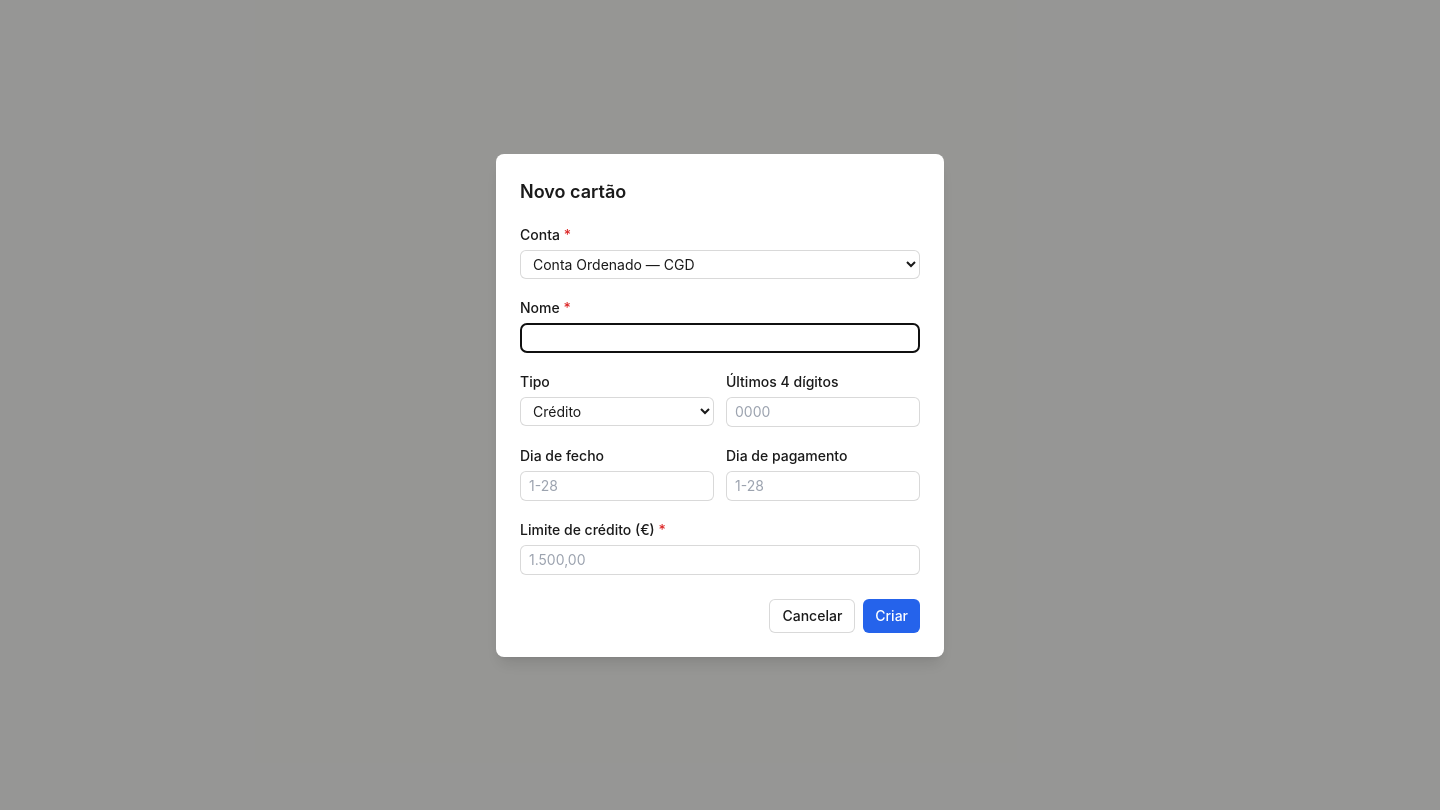
Test: <NewCardModal> › crédito sem limite bloqueia submit (refinamento credit⇒limit) — sem POST
Expected: the dropdown named "Conta associada" is enabled, [520,250,920,278]
Type "Visa" into the field named "Nome do cartão". click: (720,338)
box: [520,322,920,352]
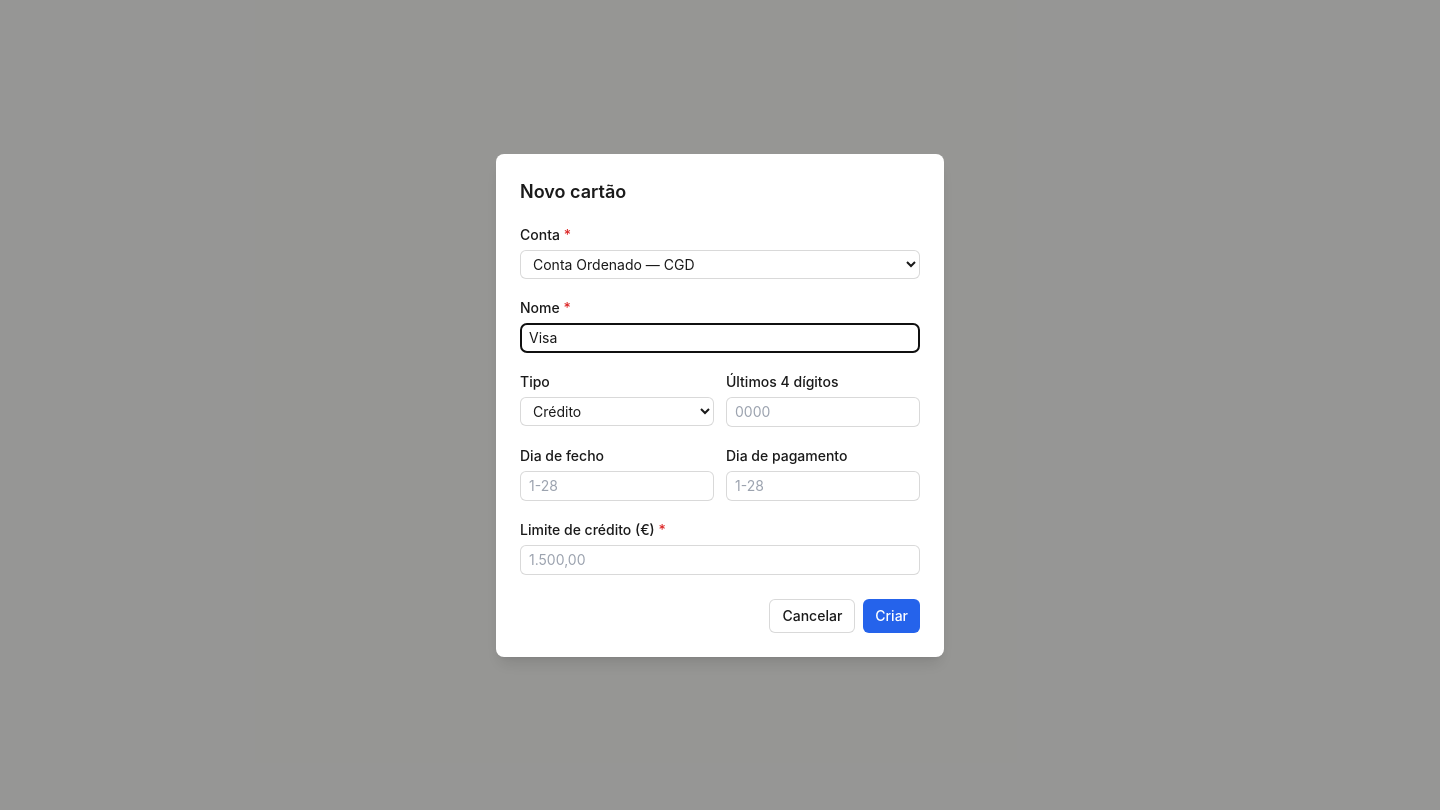
Click the button "Criar". click: (892,616)
box: [863,598,920,632]
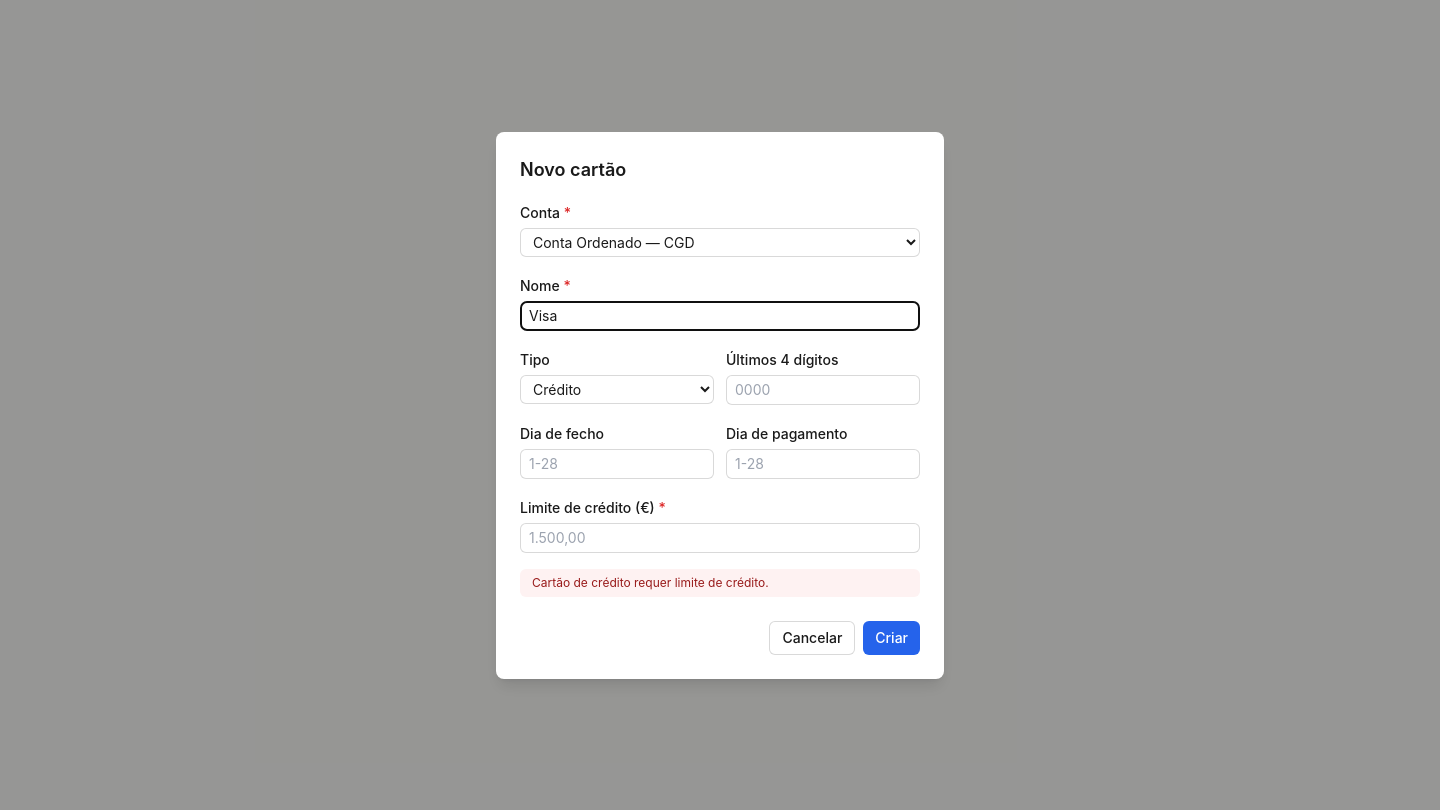
Now the message shows "requer limite de crédito", box [532,574,769,590]
